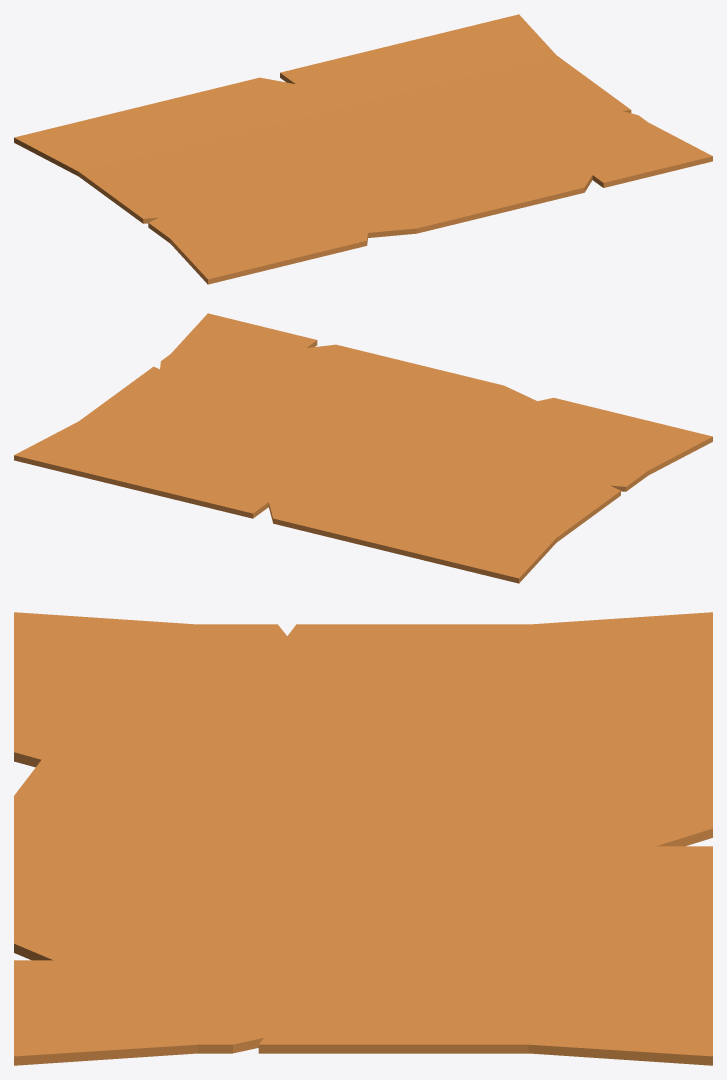
Rendered from map.fbx.
3 views of the same model, one above another, from view 1: azimuth 30°, elevation 25°; view 2: azimuth 150°, elevation 25°; view 3: azimuth 270°, elevation 25° (orthographic). The views are drawn at different scales.
Parts seen in each view (by area): view 1: Cube; view 2: Cube; view 3: Cube.
Boxes of the visible parts, x1,y1,x2,y2 form: Cube: [14, 14, 712, 284]; Cube: [14, 313, 712, 583]; Cube: [14, 612, 712, 1065].
Bounding box in the file's own units: 200 × 1.96 × 133.
